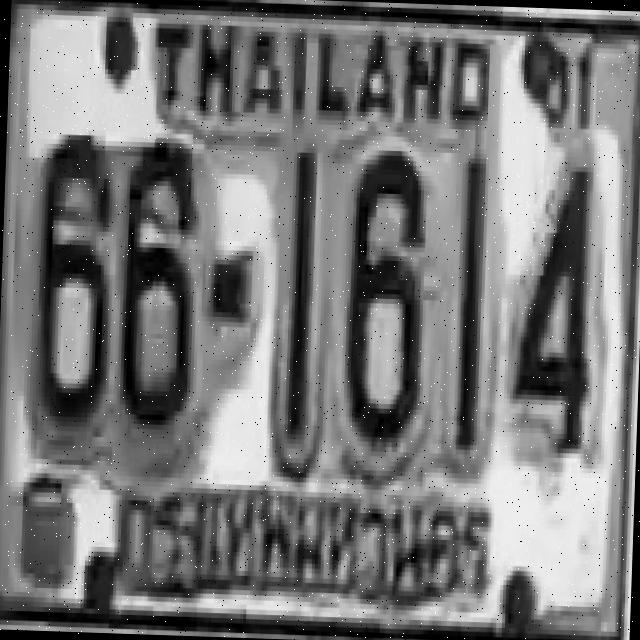1: (266, 142, 314, 468), (270, 144, 316, 465), (274, 146, 316, 448), (276, 146, 316, 462), (449, 153, 489, 459)
4: (506, 155, 600, 468)
6: (341, 144, 426, 447), (27, 131, 112, 429), (115, 134, 198, 428)
Bangkok: (89, 459, 512, 619)
